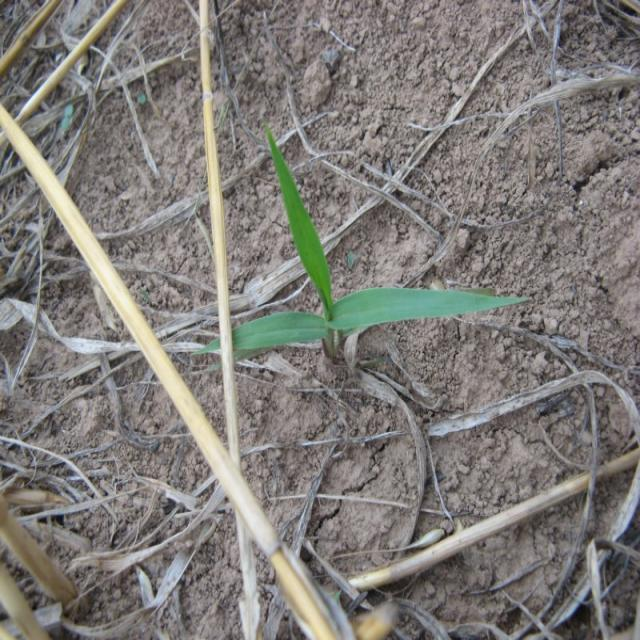bg: (194, 118, 530, 366)
